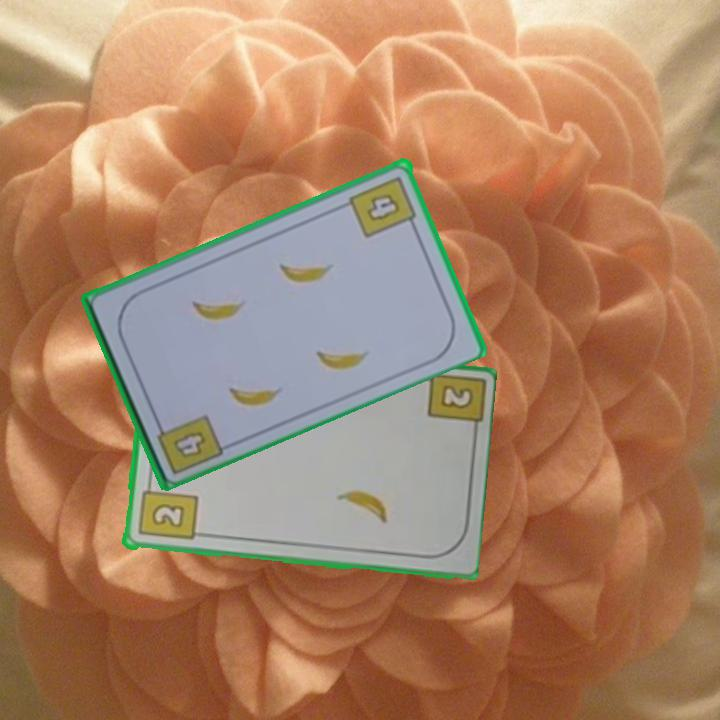2b: (134, 478, 199, 543), (436, 381, 476, 412)
4b: (346, 172, 420, 240), (173, 427, 209, 461)
